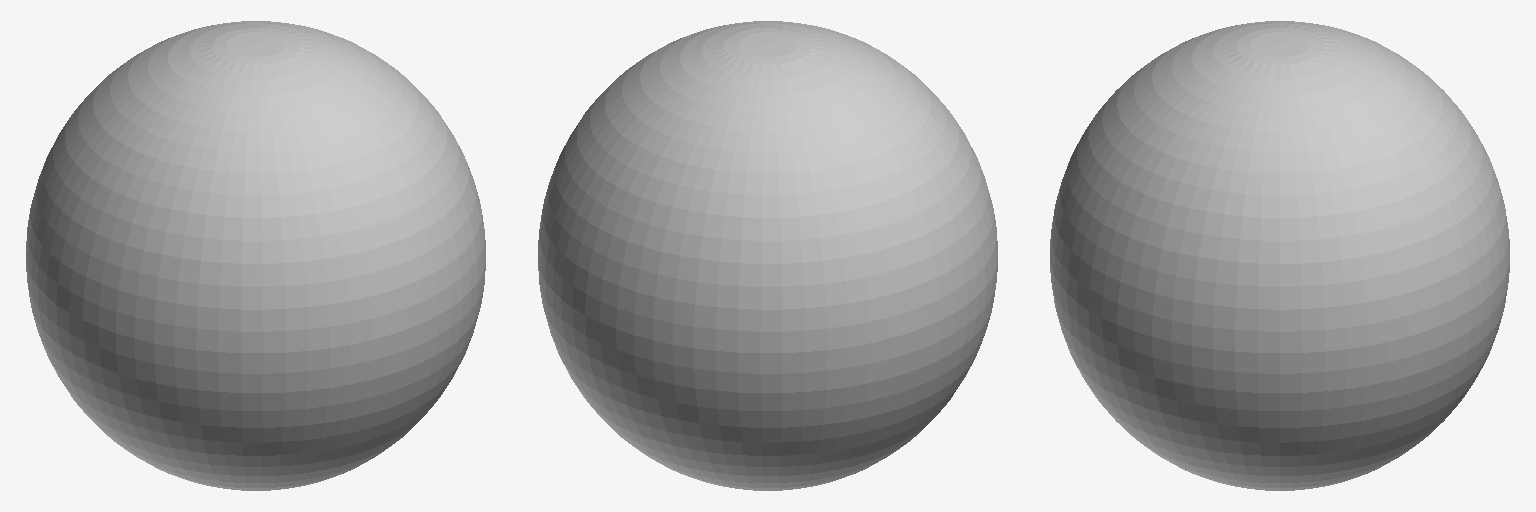
File: AstralEnergyNodeSphere.obj
3 views of the same model, side by side, from view 1: azimuth 30°, elevation 25°; view 2: azimuth 150°, elevation 25°; view 3: azimuth 270°, elevation 25° (orthographic).
Visible parts, largest first — view 1: Sphere; view 2: Sphere; view 3: Sphere.
Boxes of the visible parts, box(x1,y1,x2,y2) form: Sphere: box(26, 21, 485, 490); Sphere: box(538, 21, 997, 490); Sphere: box(1050, 21, 1509, 490).
Bounding box in the file's own units: 1.9 × 1.93 × 1.9.